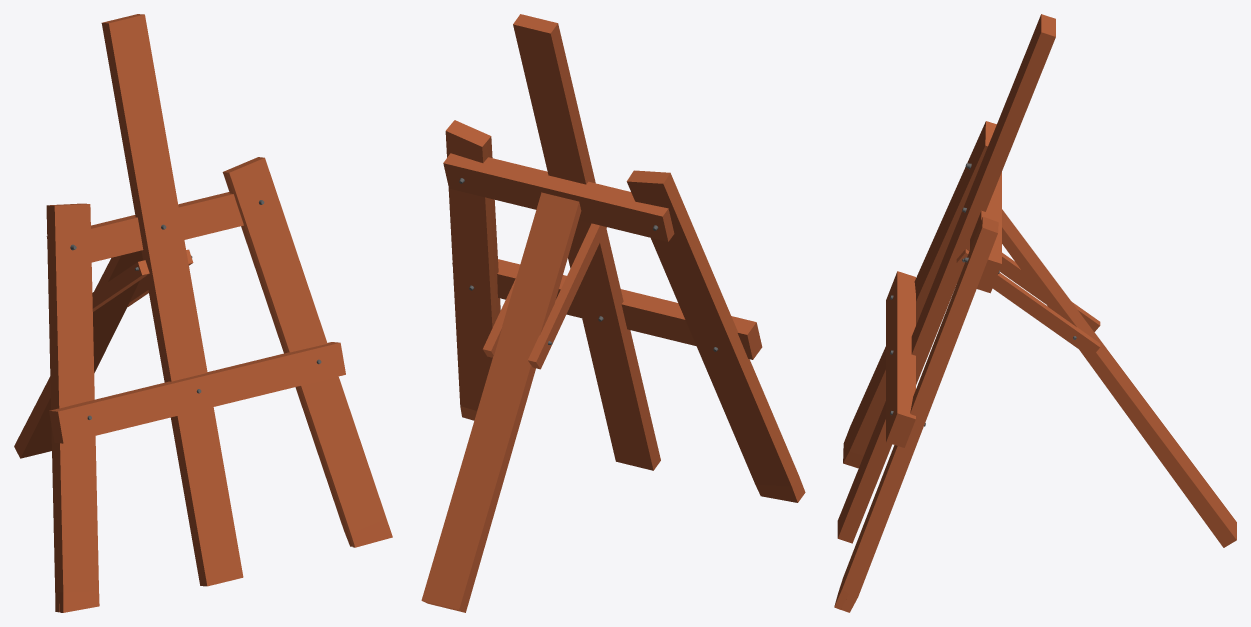
The model's file is canvas.fbx.
The picture shows the model from 3 angles, left to right: view 1: azimuth 30°, elevation 25°; view 2: azimuth 150°, elevation 25°; view 3: azimuth 270°, elevation 25°; orthographic projection. The views are drawn at different scales.
Parts seen in each view (by area): view 1: 平面, 平面.001, 平面.002, 平面.003, 平面.004, 平面.005, 平面.007; view 2: 平面.005, 平面, 平面.001, 平面.002, 平面.004, 平面.003, 平面.007, 平面.006; view 3: 平面, 平面.005, 平面.002, 平面.001, 平面.003, 平面.006, 平面.004, 平面.007.
Part boxes in pixels (<box>): 平面: <box>101,14,243,586</box>; 平面.001: <box>46,203,99,612</box>; 平面.002: <box>222,157,392,547</box>; 平面.003: <box>49,342,345,443</box>; 平面.004: <box>46,192,243,262</box>; 平面.005: <box>14,250,143,458</box>; 平面.007: <box>92,260,149,311</box>; 平面.005: <box>421,192,581,612</box>; 平面: <box>513,14,660,470</box>; 平面.001: <box>626,170,805,502</box>; 平面.002: <box>445,120,500,420</box>; 平面.004: <box>443,153,674,241</box>; 平面.003: <box>452,259,762,359</box>; 平面.007: <box>528,223,606,369</box>; 平面.006: <box>483,276,516,357</box>; 平面: <box>837,14,1055,543</box>; 平面.005: <box>1002,209,1236,547</box>; 平面.002: <box>834,216,998,612</box>; 平面.001: <box>843,121,996,468</box>; 平面.003: <box>886,271,915,447</box>; 平面.006: <box>956,249,1100,357</box>; 平面.004: <box>970,172,1001,293</box>; 平面.007: <box>1000,252,1100,331</box>.
Size of the model in its own units: 777 by 1138 by 805.
